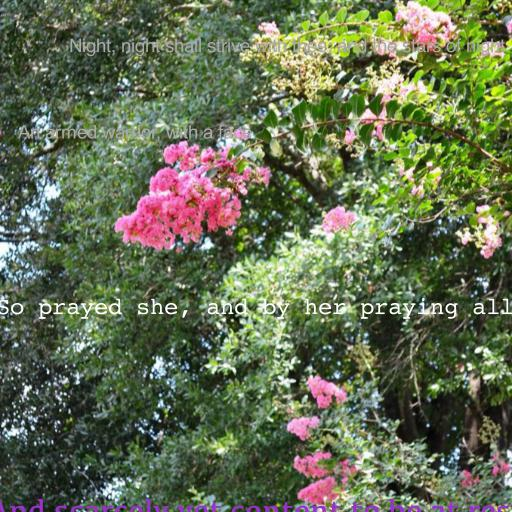Arial: (18, 124, 252, 142)
Courier: (0, 297, 512, 319)
Kefa: (0, 499, 512, 512)
SignPainter: (69, 38, 505, 57)
